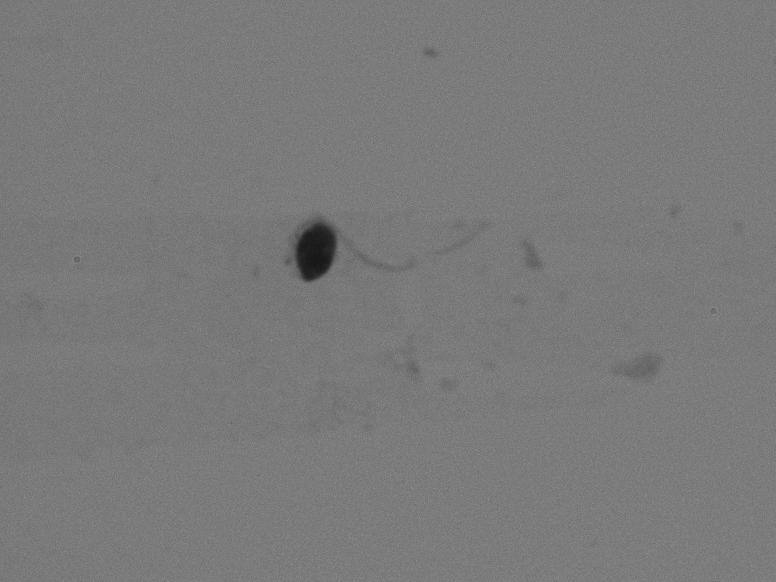Abnormal: (231, 135, 523, 342)
